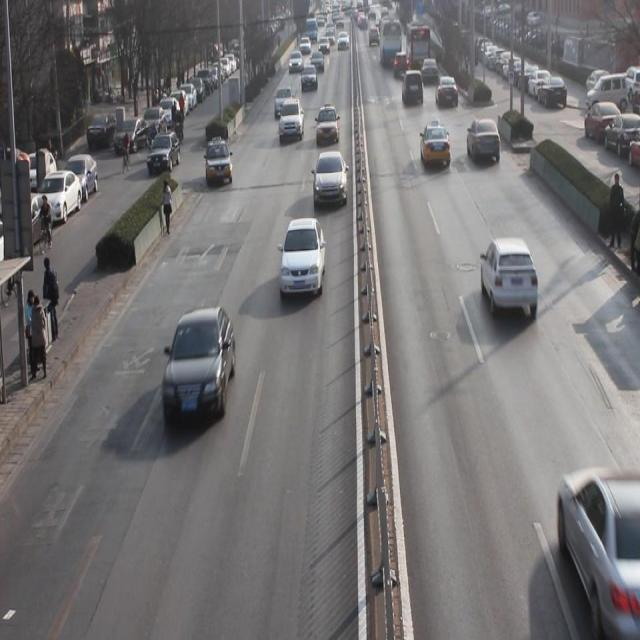car: (559, 456, 628, 640), (162, 307, 237, 423), (479, 237, 540, 319), (280, 218, 324, 302), (313, 152, 348, 208), (419, 113, 452, 170), (466, 119, 501, 167), (205, 136, 233, 188), (314, 104, 343, 145), (278, 99, 304, 142), (401, 70, 424, 107), (436, 77, 458, 108), (274, 86, 294, 118), (301, 66, 318, 92), (289, 49, 302, 74), (310, 50, 324, 71)
